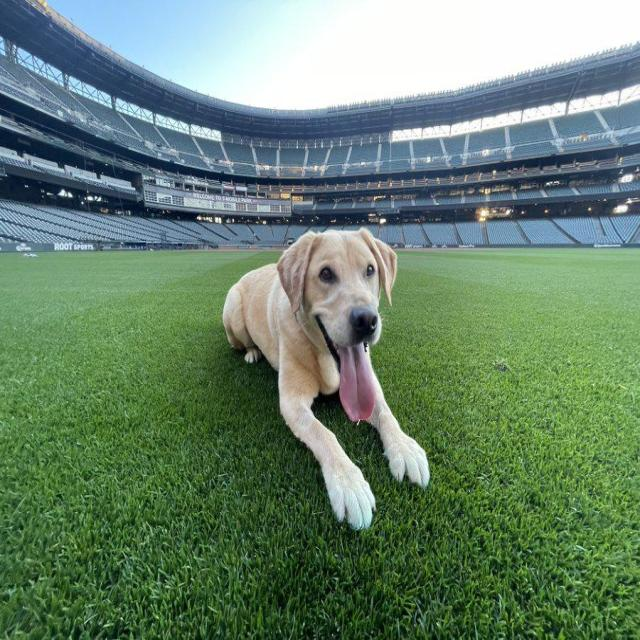Dog: (276, 222, 401, 429)
